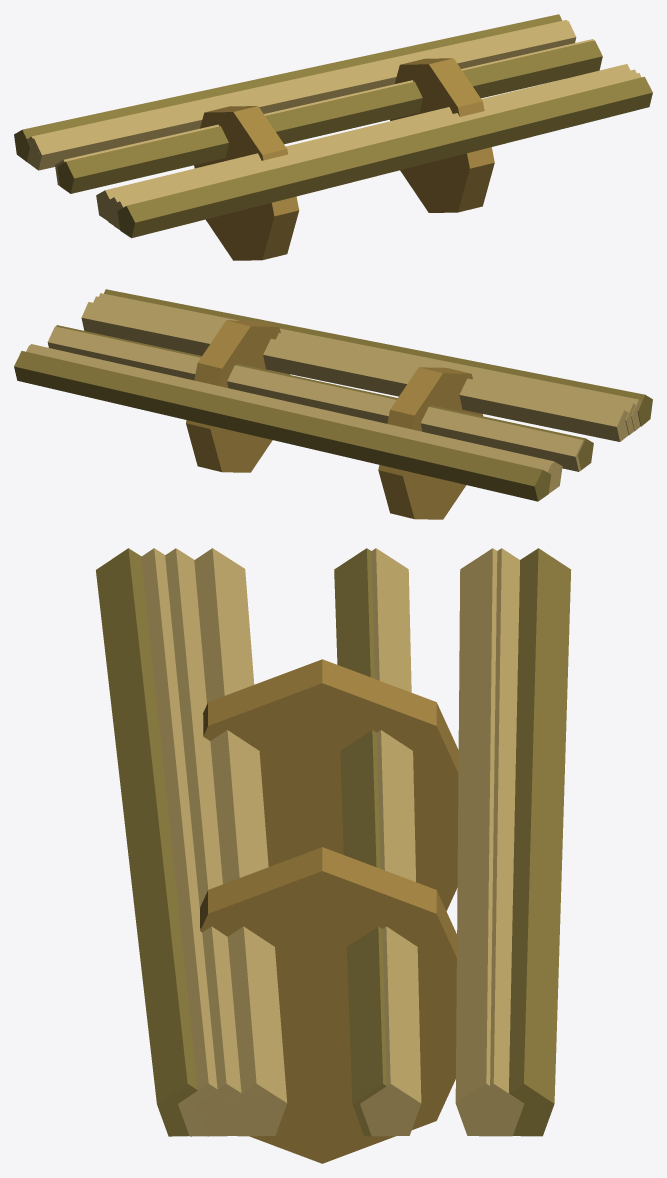
The model's file is pickup_fibre_bundle.glb.
3 renders of one model, top to bottom at view 1: azimuth 30°, elevation 25°; view 2: azimuth 150°, elevation 25°; view 3: azimuth 270°, elevation 25°, orthographic. The views are drawn at different scales.
Visible parts, largest first — view 1: Fibre_7, Fibre_1, Fibre_2, Binding_b, Binding_a, Fibre_4, Fibre_6, Fibre_8, Fibre_9, Fibre_3, Fibre_5; view 2: Fibre_4, Fibre_6, Fibre_5, Binding_b, Binding_a, Fibre_3, Fibre_9, Fibre_7, Fibre_8, Fibre_1, Fibre_2; view 3: Binding_b, Binding_a, Fibre_4, Fibre_7, Fibre_6, Fibre_2, Fibre_5, Fibre_1, Fibre_9, Fibre_8, Fibre_3.
Boxes of the visible parts, x1,y1,x2,y2 form: Fibre_7: (117, 76, 652, 238); Fibre_1: (57, 40, 602, 193); Fibre_2: (33, 21, 576, 170); Binding_b: (390, 58, 494, 212); Binding_a: (194, 106, 299, 260); Fibre_4: (14, 14, 561, 161); Fibre_6: (96, 64, 630, 220); Fibre_8: (111, 73, 641, 229); Fibre_9: (105, 69, 636, 225); Fibre_3: (27, 20, 567, 168); Fibre_5: (55, 39, 593, 185); Fibre_4: (14, 351, 551, 501); Fibre_6: (81, 302, 628, 441); Fibre_5: (47, 326, 584, 471); Binding_b: (186, 320, 290, 472); Binding_a: (378, 367, 483, 519); Fibre_3: (26, 345, 560, 493); Fibre_9: (93, 296, 635, 435); Fibre_7: (104, 289, 652, 426); Fibre_8: (99, 293, 641, 431); Fibre_1: (56, 325, 593, 469); Fibre_2: (30, 344, 562, 486); Binding_b: (200, 847, 456, 1163); Binding_a: (203, 659, 458, 910); Fibre_4: (508, 548, 571, 1136); Fibre_7: (96, 548, 197, 1136); Fibre_6: (194, 548, 287, 1136); Fibre_2: (455, 548, 516, 1136); Fibre_5: (360, 548, 421, 1136); Fibre_1: (334, 548, 386, 1136); Fibre_9: (165, 548, 241, 1136); Fibre_8: (141, 548, 217, 1136); Fibre_3: (490, 548, 524, 1136).
Bounding box in the file's own units: 0.3008 × 0.08 × 0.1177.
